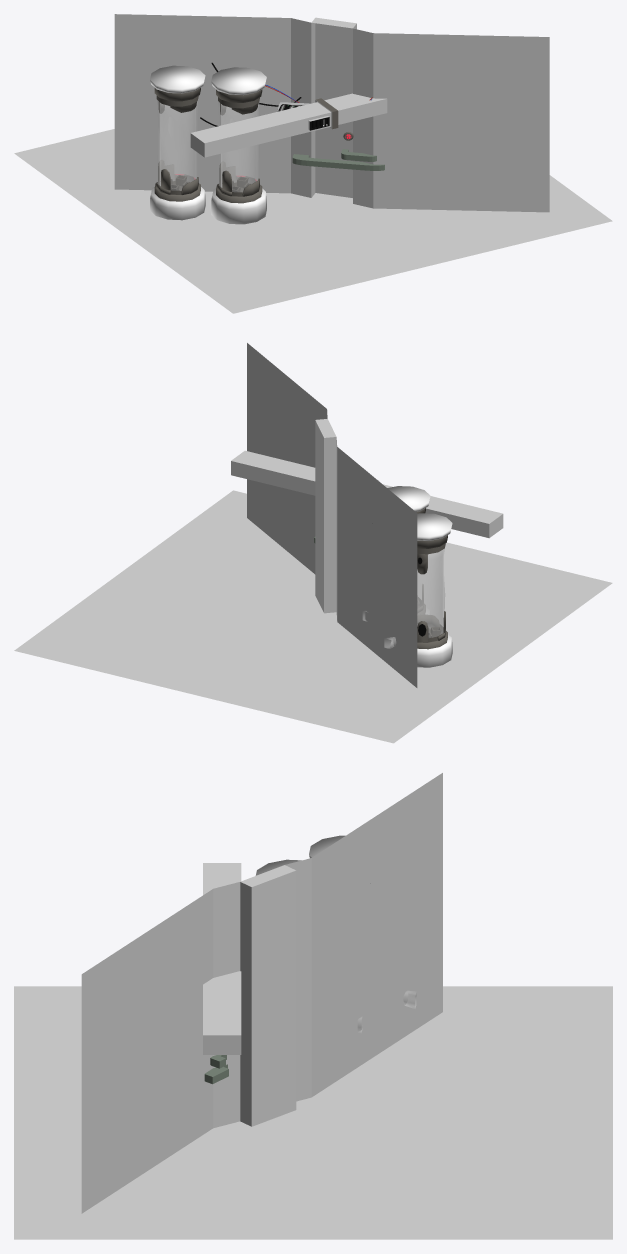
The model's file is background.glb.
The picture shows the model from 3 angles, top to bottom: view 1: azimuth 30°, elevation 25°; view 2: azimuth 150°, elevation 25°; view 3: azimuth 270°, elevation 25°; orthographic projection. The views are drawn at different scales.
Visible parts, largest first — view 1: Plane.005; view 2: Plane.005; view 3: Plane.005.
Boxes of the visible parts, x1,y1,x2,y2 form: Plane.005: (14,14,612,313); Plane.005: (14,343,612,743); Plane.005: (14,773,612,1239).
Bounding box in the file's own units: 31.19 × 14.07 × 31.19.
11 materials, 1 textured.
